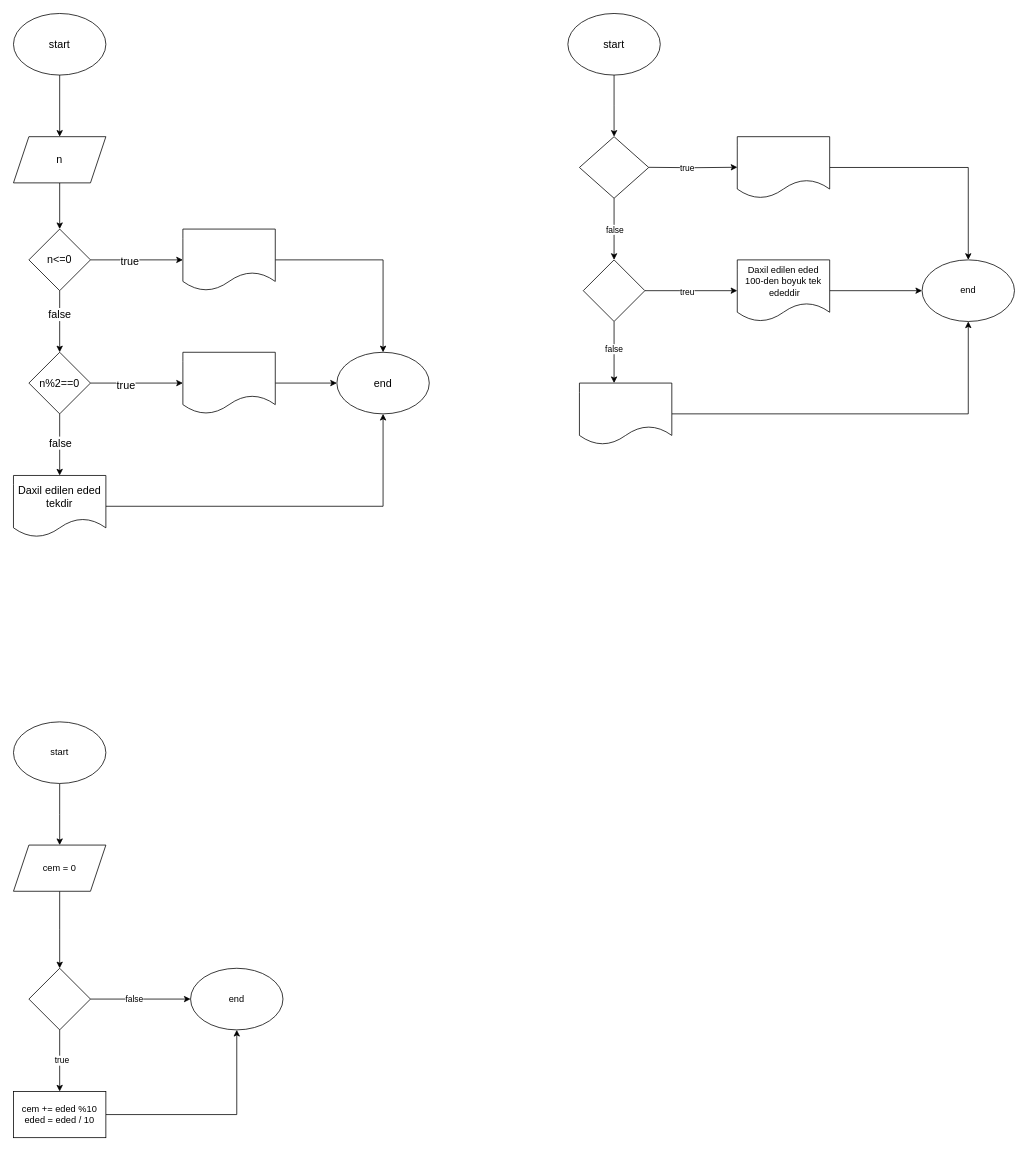
This 1028x1151 diagram has some shape labels left out. The shapes that lost their labels are listed below. From the top down, each one's centre as x and y in pixels, then its label:
the point at 614,167: n<100 && n%2==0
the point at 783,167: Daxil edilen eded 100-den kicik cut ededdir
the point at 228,259: Duzgun eded daxil edin
the point at 614,290: n>100 && n%2==1
the point at 228,383: Daxil edilen eded cutdur
the point at 625,413: Duzgun eded daxil edilmeyib
the point at 59,999: eded > 0
